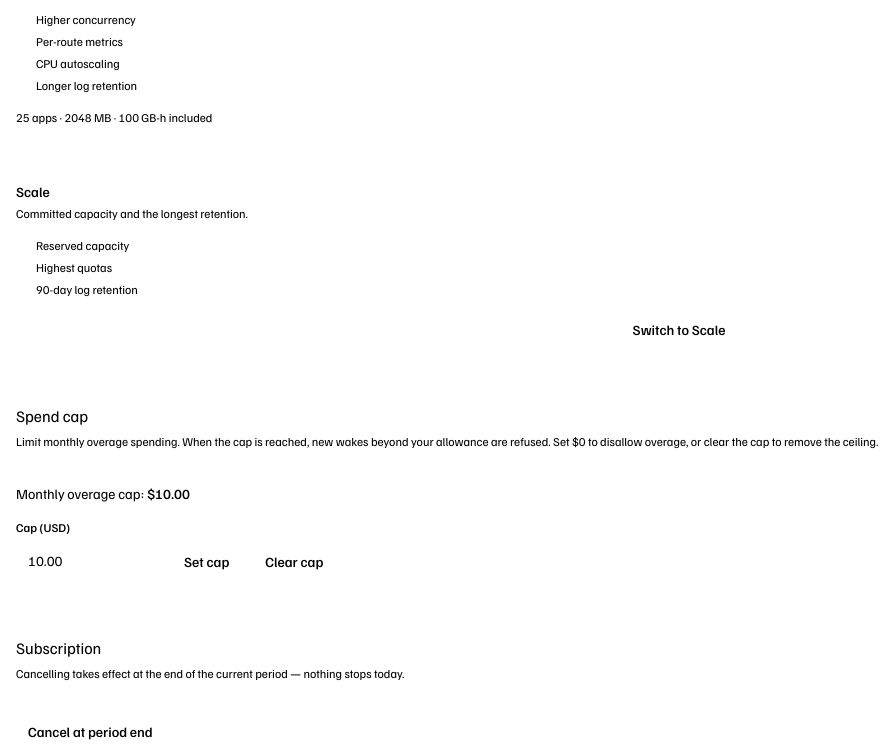
Test case: keeps the saved cap and draft unchanged when saving fails
(page scrolled)
Type "5.50" into the number field labelled "Cap (USD)" at (88, 560), box [16,542,160,578]
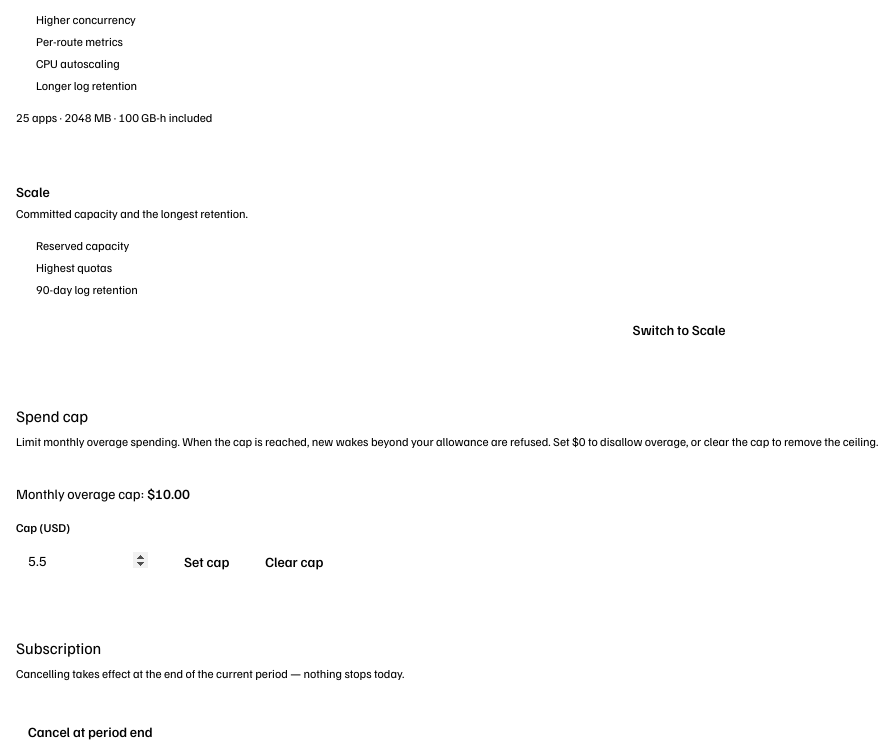
Click the button "Set cap" at (207, 562), box [172,546,241,578]
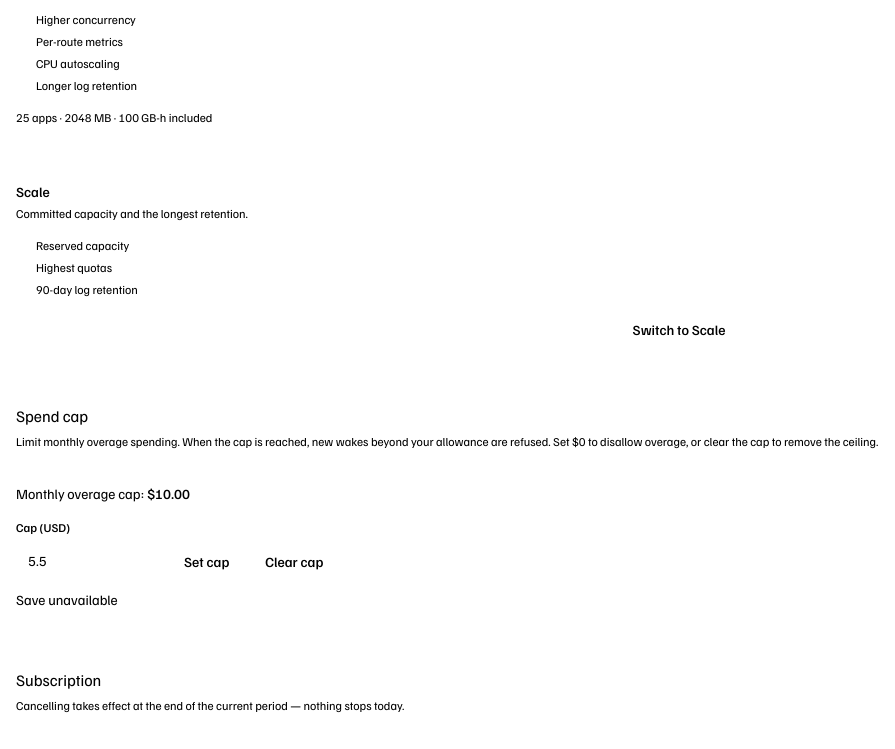
Expected: the text "$10.00" is shown, [147,485,190,502]
Expected: the number field labelled "Cap (USD)" holds "5.5", [16,542,160,578]
Expected: the message reads "Save unavailable", [16,591,118,608]
